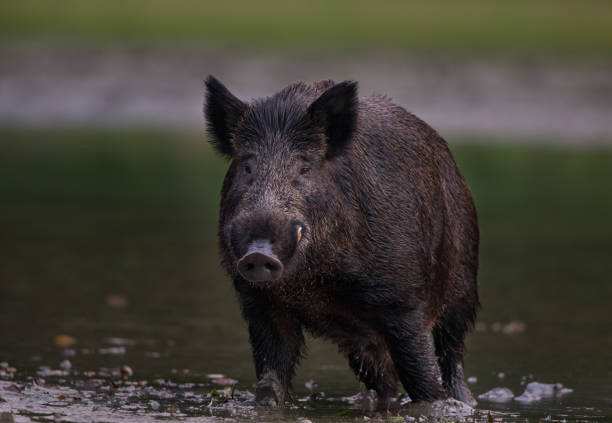pig: (214, 78, 483, 400)
